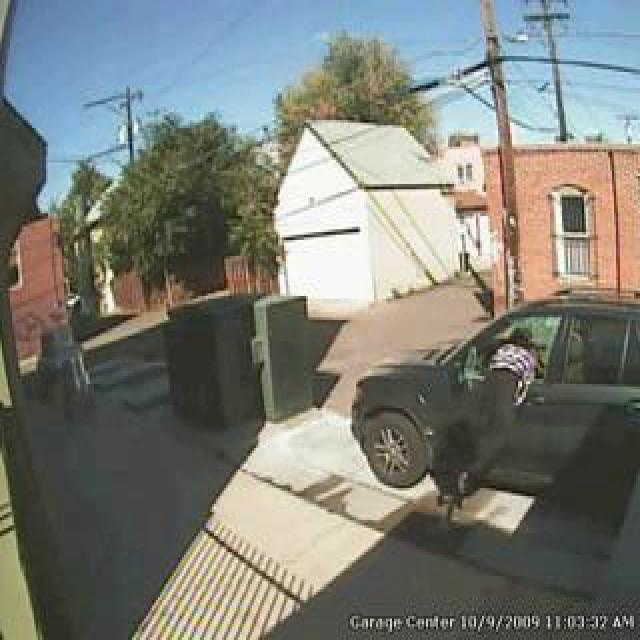stealing: (442, 231, 593, 597)
